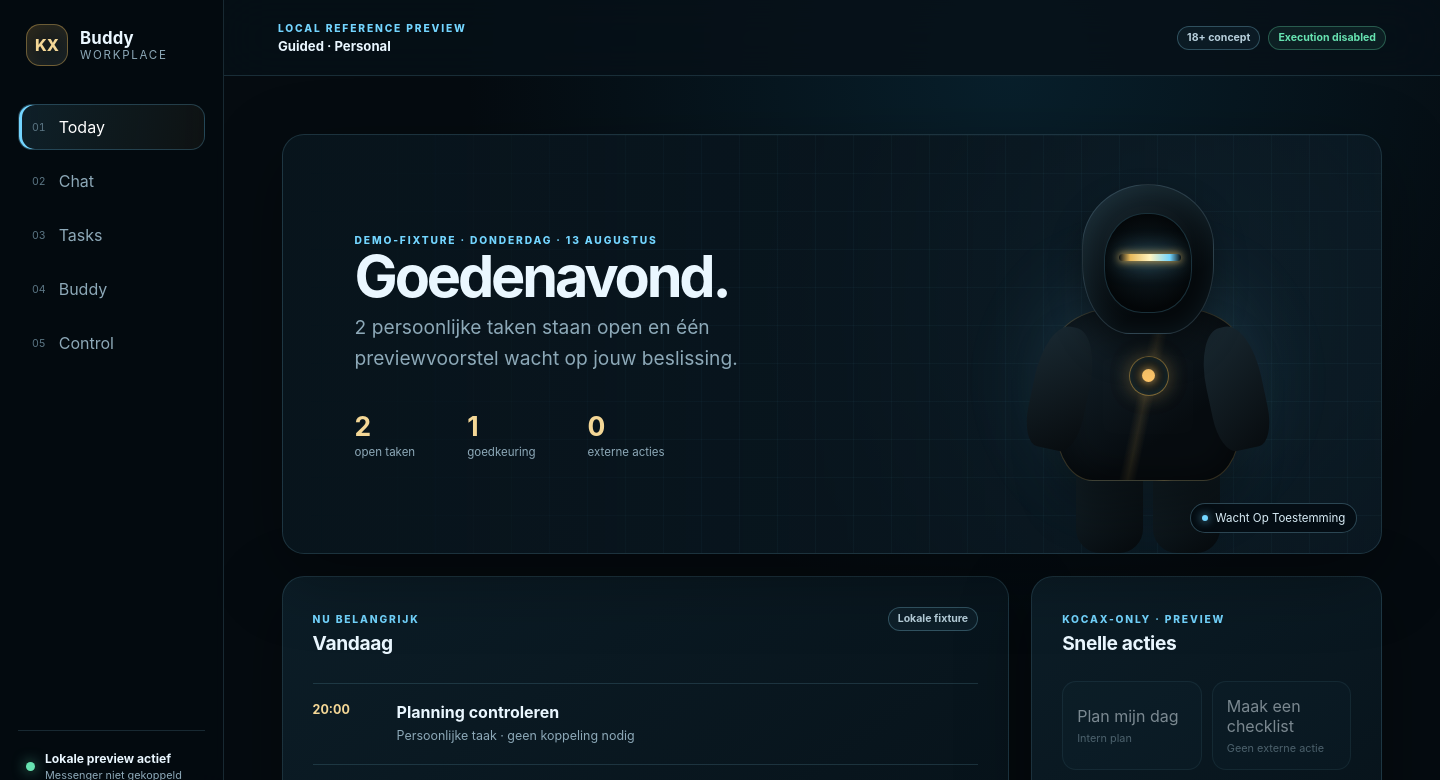
Test: Buddy Workplace preview › shows safe defaults and explicitly disables unavailable controls
The width and height of the screenshot is (1440, 780).
Expected: the text "Guided · Personal" is shown, [278,38,391,54]
Expected: the button "Plan mijn dag Intern plan" is disabled, [1062,681,1202,770]
Click the button named "05control" at (112, 343), box [18,320,205,366]
(page scrolled)
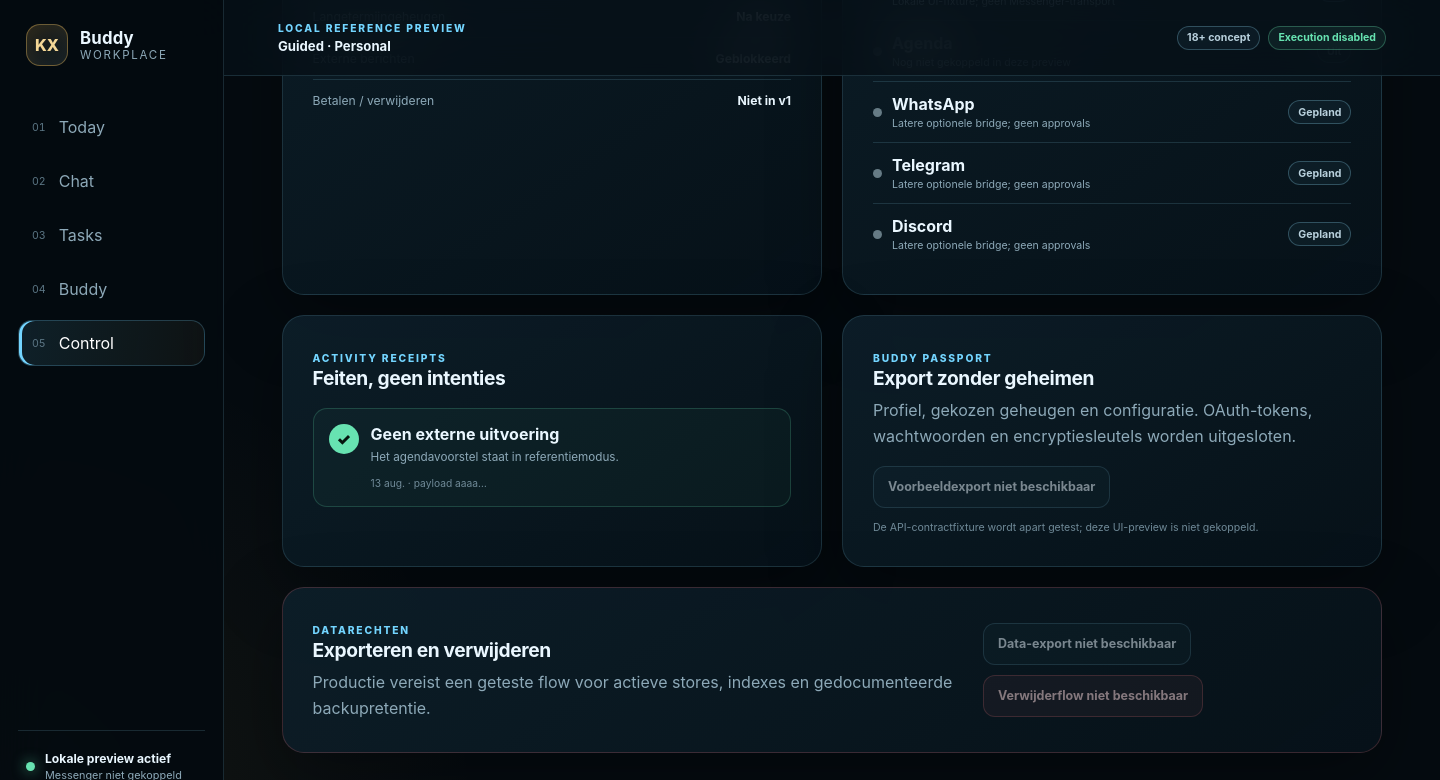
Expected: the button "Voorbeeldexport niet beschikbaar" is disabled, [873,466,1110,508]
Expected: the button "Data-export niet beschikbaar" is disabled, [983,623,1191,665]
Expected: the button "Verwijderflow niet beschikbaar" is disabled, [983,675,1203,717]
